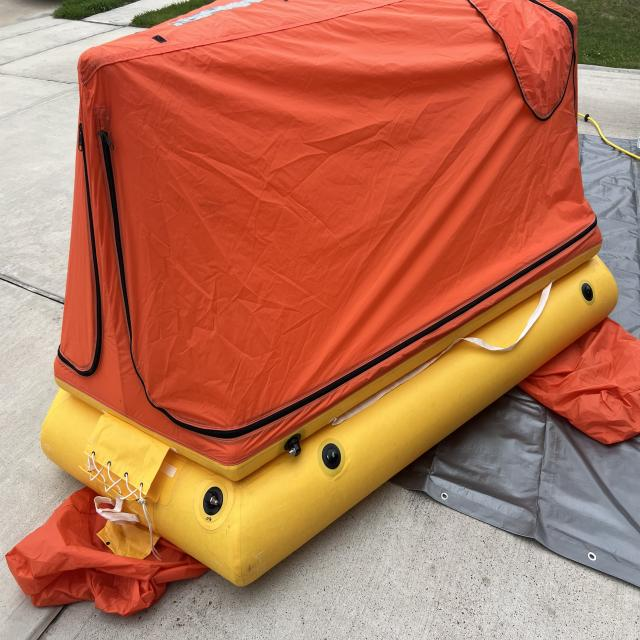Multi-person_life_raft: (5, 1, 640, 620)
